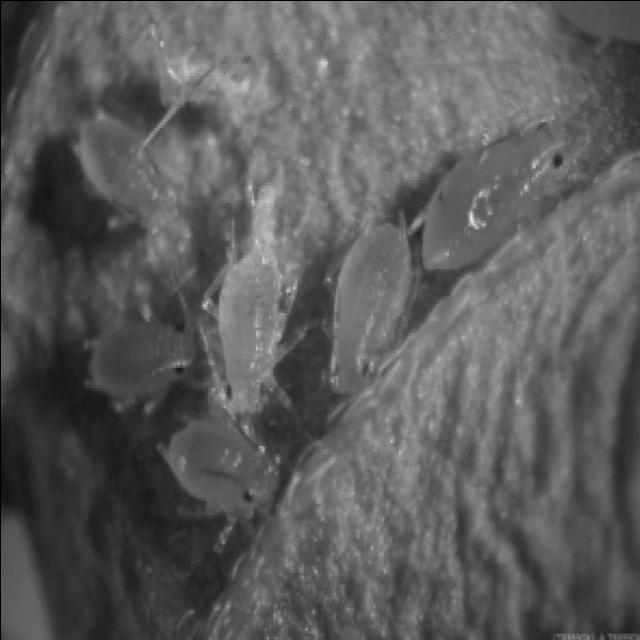Aphids: (42, 82, 585, 578)
